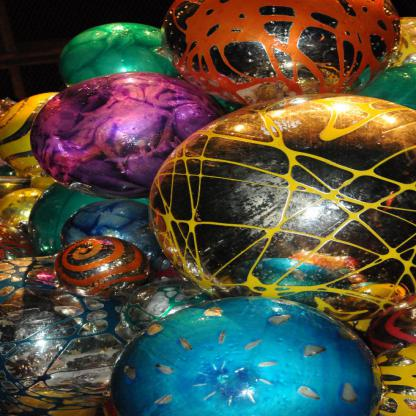Ball: (147, 91, 416, 321), (112, 296, 388, 415), (37, 73, 227, 199), (164, 0, 394, 101), (2, 302, 146, 415), (57, 22, 176, 75), (67, 202, 155, 272), (21, 184, 111, 251), (64, 237, 150, 302), (3, 89, 59, 174)
